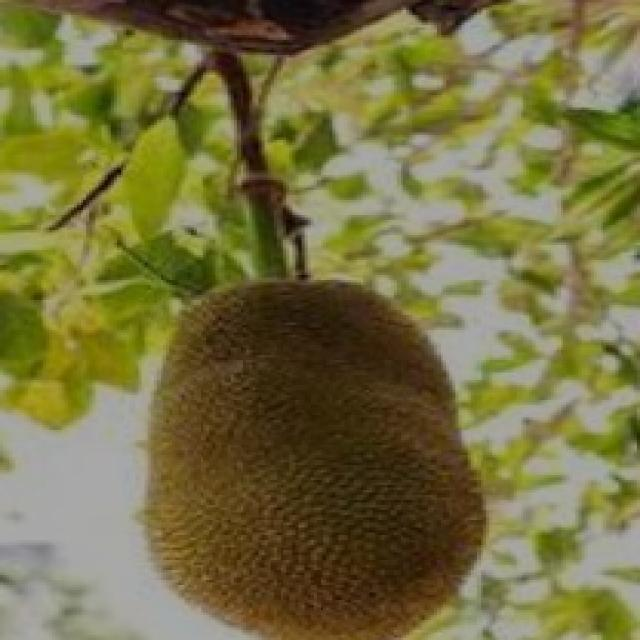Fruit: (111, 255, 514, 640)
